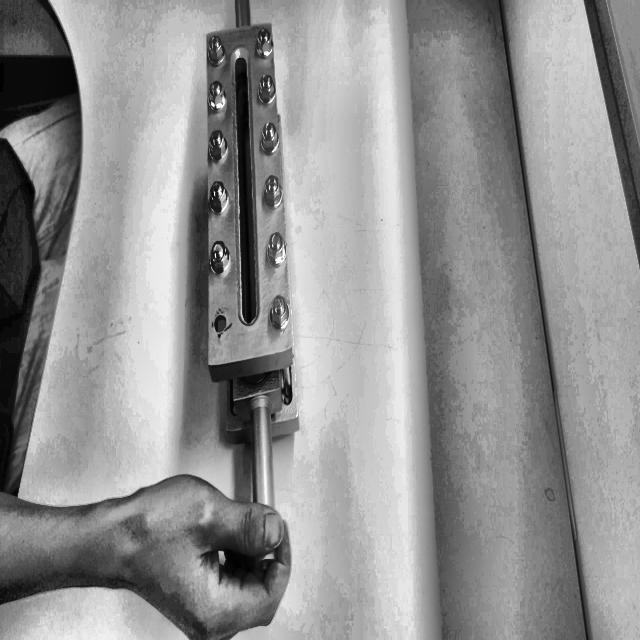ShuiWeiQi_11: (143, 13, 343, 460)
